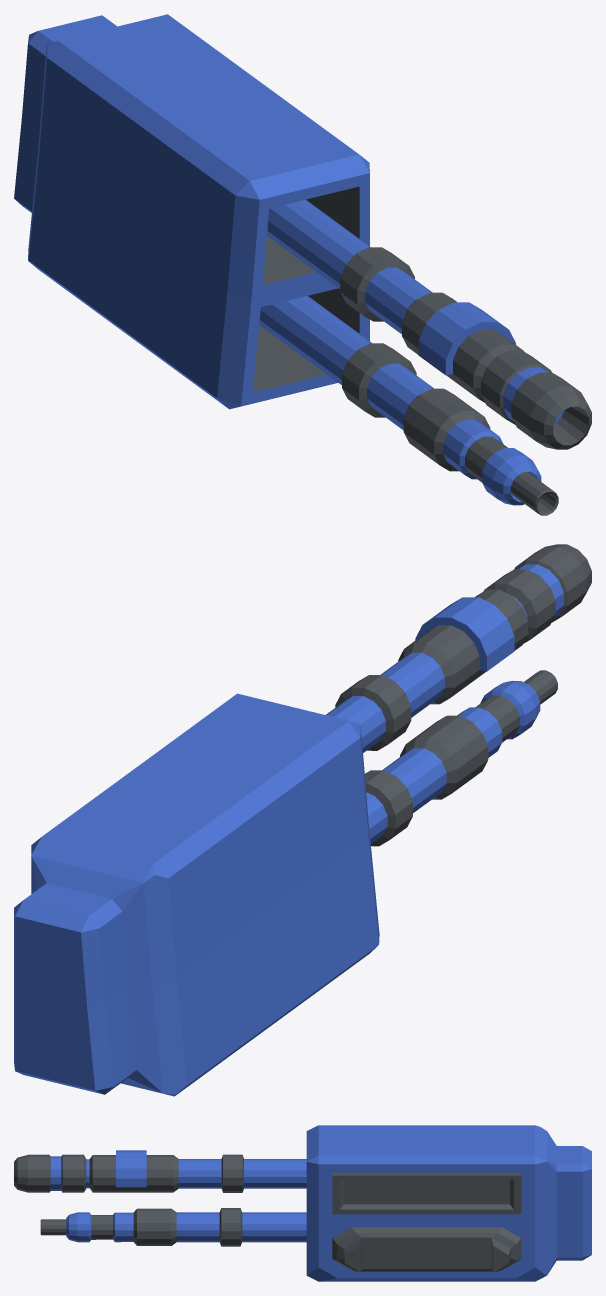
File: Fighter_05_Artillery_Left_Blue.fbx
3 renders of one model, top to bottom at view 1: azimuth 30°, elevation 25°; view 2: azimuth 150°, elevation 25°; view 3: azimuth 270°, elevation 25°, orthographic. The views are drawn at different scales.
Visible parts, largest first — view 1: Fighter_05_Artillery_Left_Blue; view 2: Fighter_05_Artillery_Left_Blue; view 3: Fighter_05_Artillery_Left_Blue.
Part boxes in pixels (x1=…): Fighter_05_Artillery_Left_Blue: x1=14, y1=14, x2=591, y2=515; Fighter_05_Artillery_Left_Blue: x1=14, y1=544, x2=591, y2=1096; Fighter_05_Artillery_Left_Blue: x1=14, y1=1125, x2=591, y2=1281.
Bounding box in the file's own units: 155 × 175 × 726.
2 materials, 2 textured.
